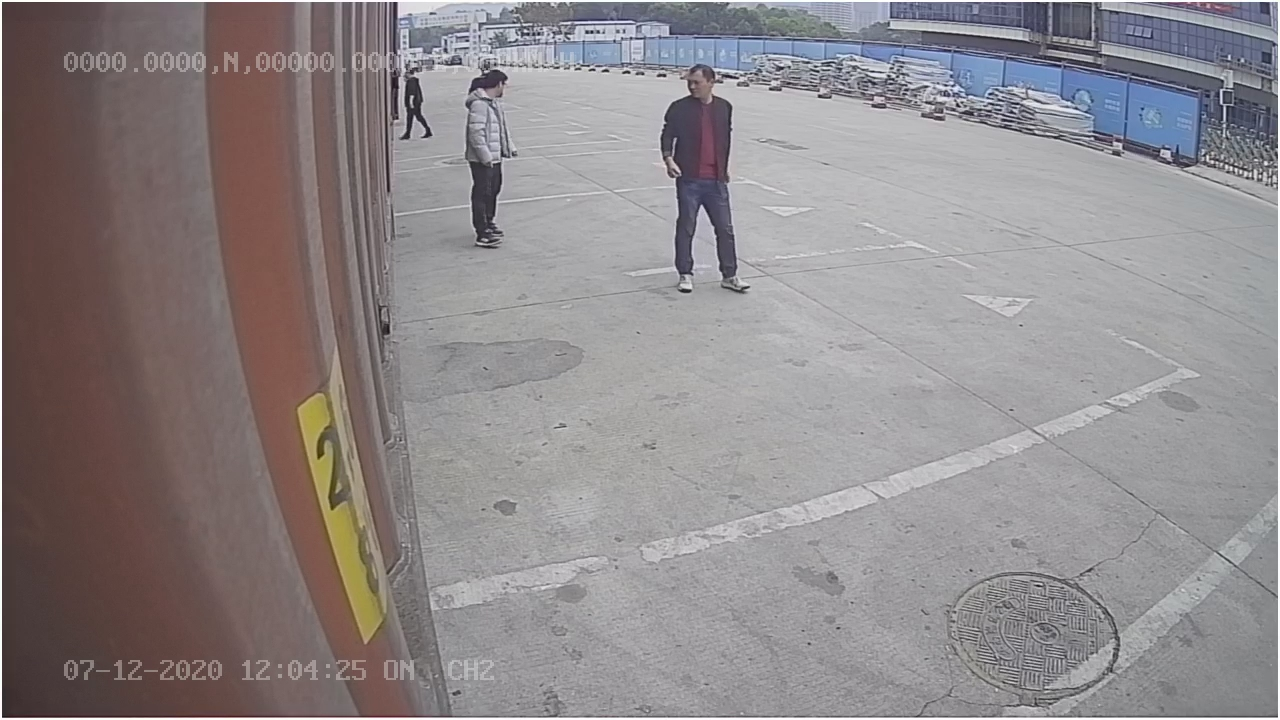person: (658, 58, 750, 298)
